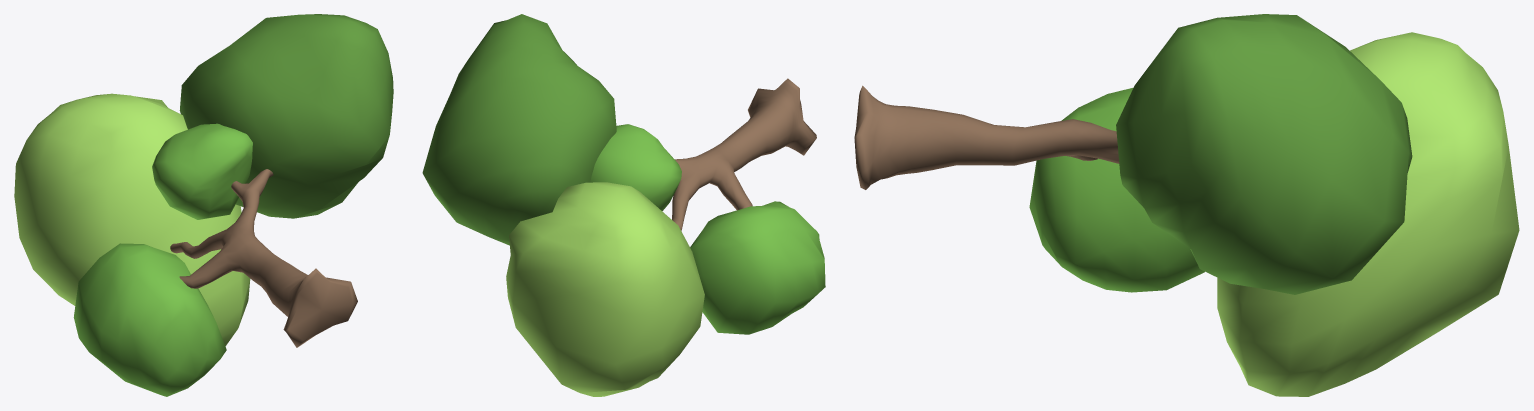
Rendered from tree3.fbx.
3 renders of one model, left to right at view 1: azimuth 30°, elevation 25°; view 2: azimuth 150°, elevation 25°; view 3: azimuth 270°, elevation 25°, orthographic. The views are drawn at different scales.
Visible parts, largest first — view 1: tree3; view 2: tree3; view 3: tree3.
Part boxes in pixels (x1=…): tree3: x1=14, y1=14, x2=393, y2=396; tree3: x1=422, y1=14, x2=825, y2=396; tree3: x1=854, y1=14, x2=1519, y2=396.
Size of the model in its own units: 1468 by 1370 by 1814.
